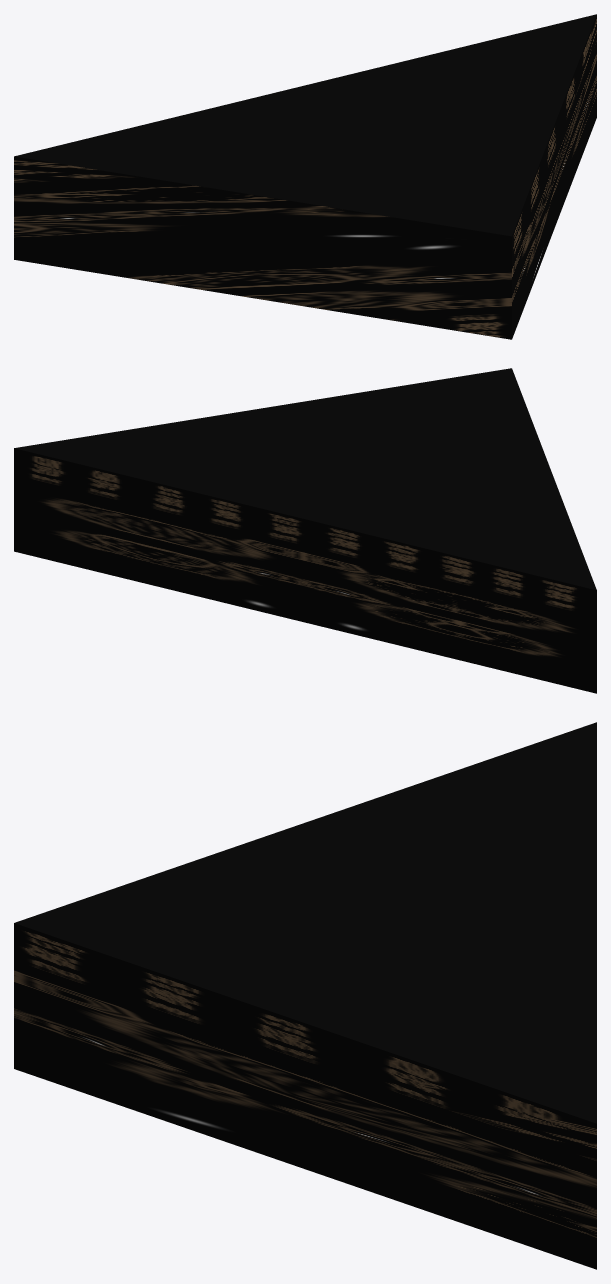
The model's file is arrow_t.fbx.
3 views of the same model, one above another, from view 1: azimuth 30°, elevation 25°; view 2: azimuth 150°, elevation 25°; view 3: azimuth 270°, elevation 25° (orthographic). The views are drawn at different scales.
Parts seen in each view (by area): view 1: mqo_mesh; view 2: mqo_mesh; view 3: mqo_mesh.
Boxes of the visible parts, box(x1,y1,x2,y2) form: mqo_mesh: box(14, 14, 596, 339); mqo_mesh: box(14, 368, 596, 693); mqo_mesh: box(14, 722, 596, 1269).
Size of the model in its own units: 56.87 by 9.64 by 34.88.
